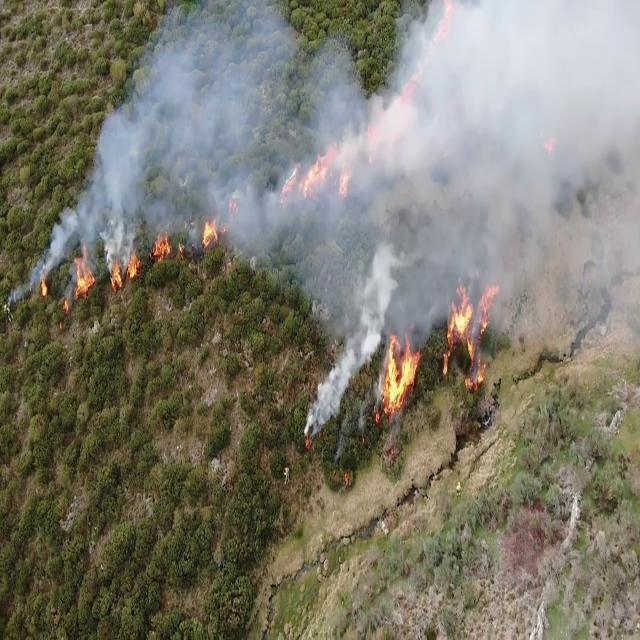Fire: (444, 276, 501, 374), (380, 326, 420, 418), (72, 250, 96, 304)
Smoke: (316, 0, 640, 358), (48, 7, 334, 294)
